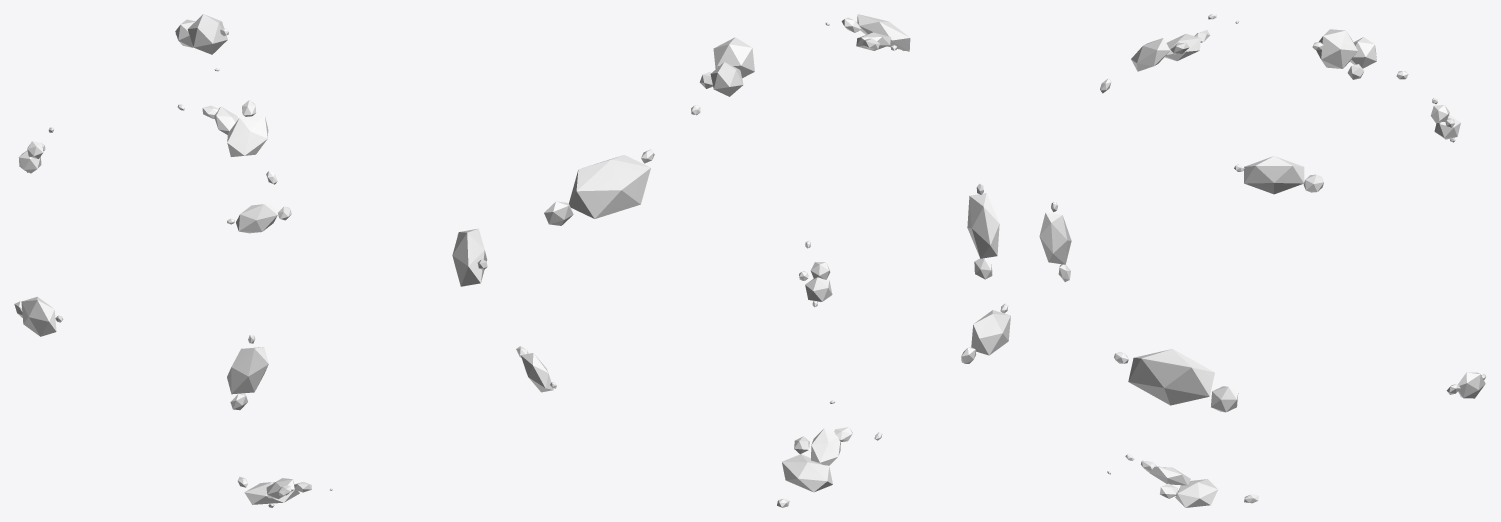
File: LowPolyEarth_Final_Clouds.glb
The picture shows the model from 3 angles, left to right: view 1: azimuth 30°, elevation 25°; view 2: azimuth 150°, elevation 25°; view 3: azimuth 270°, elevation 25°; orthographic projection. The views are drawn at different scales.
Visible parts, largest first — view 1: Clouds; view 2: Clouds; view 3: Clouds.
Part boxes in pixels (x1,y1,x2,y2): Clouds: (14,14,487,507); Clouds: (516,14,1010,507); Clouds: (1039,14,1486,507).
Bounding box in the file's own units: 2.55 × 2.54 × 2.16.
1 material, 1 textured.
